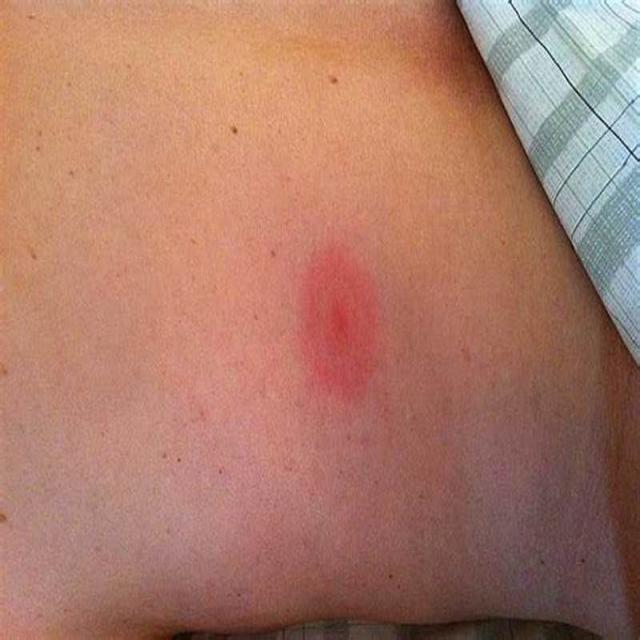kene: (285, 231, 396, 416)
